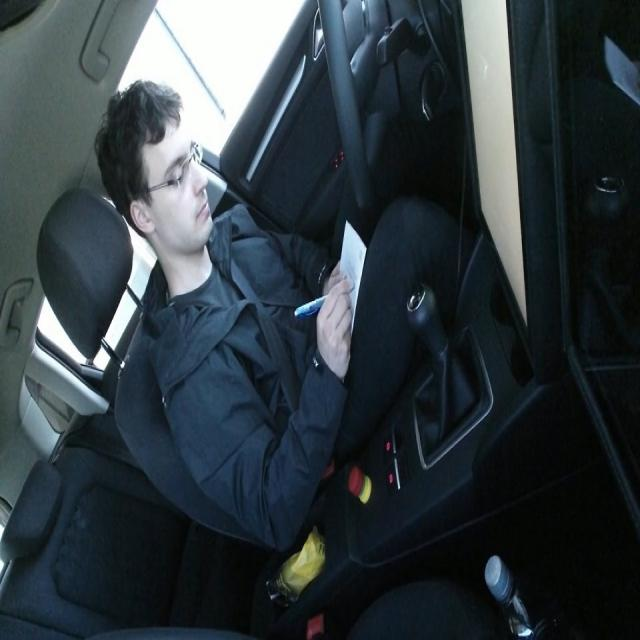pen: (293, 278, 354, 319)
